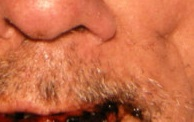SJS-TEN: (0, 94, 147, 122)
